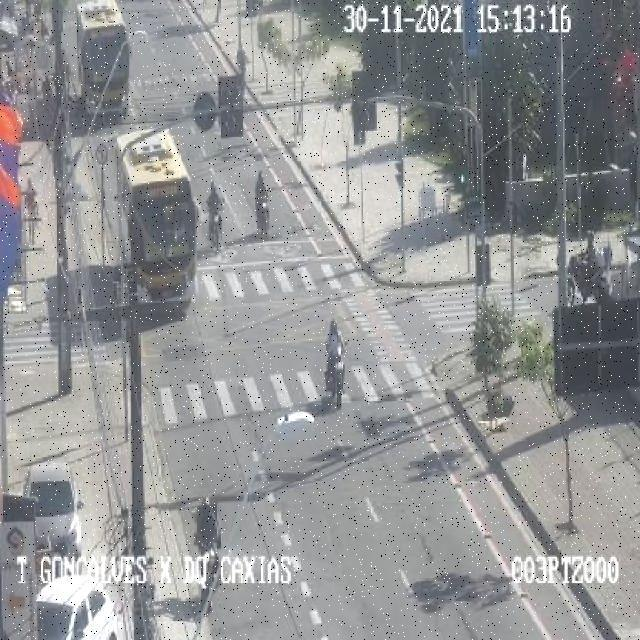Bus: (114, 128, 198, 305), (72, 0, 132, 117)
Cycle: (324, 320, 348, 411), (254, 171, 273, 236), (207, 179, 222, 251)
